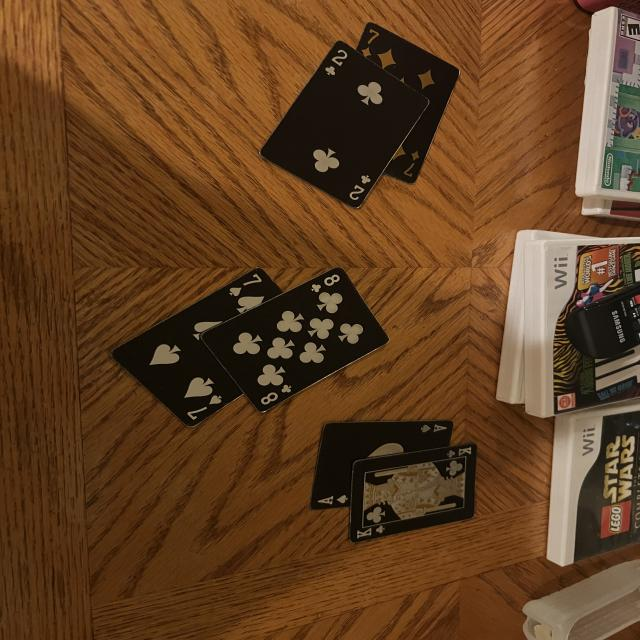2C: (321, 43, 351, 79), (348, 172, 377, 201)
7D: (360, 22, 385, 59), (404, 147, 423, 179)
7S: (184, 394, 228, 424), (221, 270, 268, 296)
8C: (259, 382, 299, 408), (305, 274, 342, 296)
AS: (420, 422, 451, 437), (317, 494, 350, 508)
BACK: (354, 525, 394, 539)
KC: (446, 446, 476, 461)
